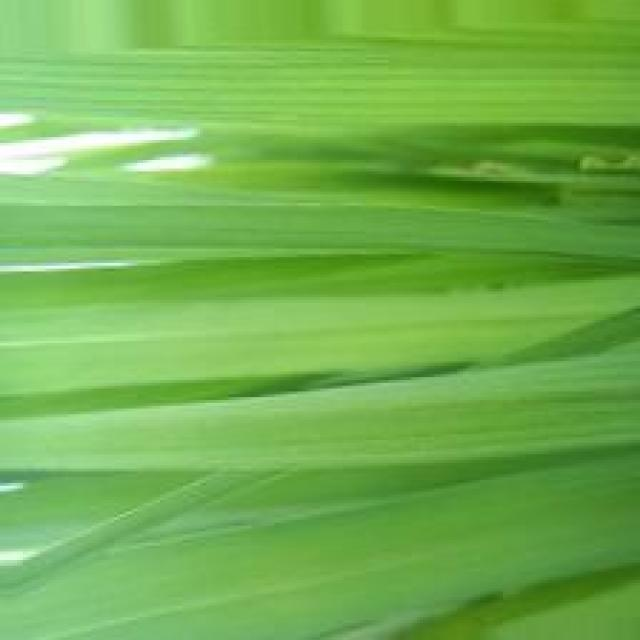HealthyLeaf: (32, 46, 334, 124), (369, 47, 628, 121), (138, 547, 396, 619)
